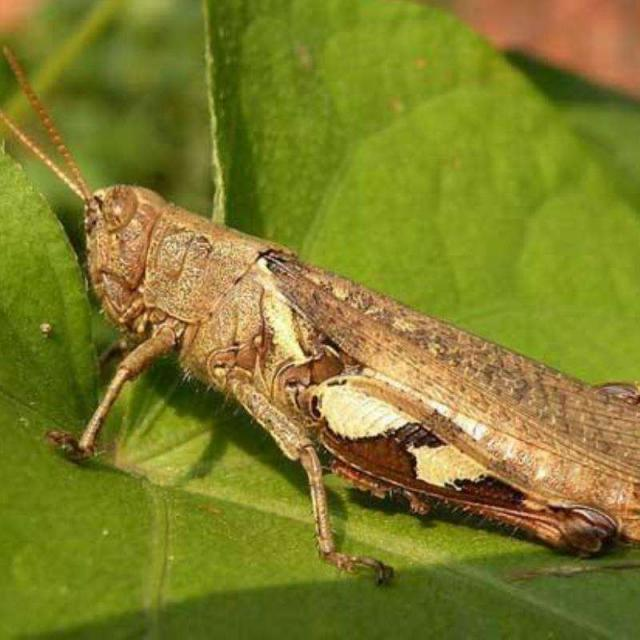ZhaMeng: (44, 151, 634, 573)
